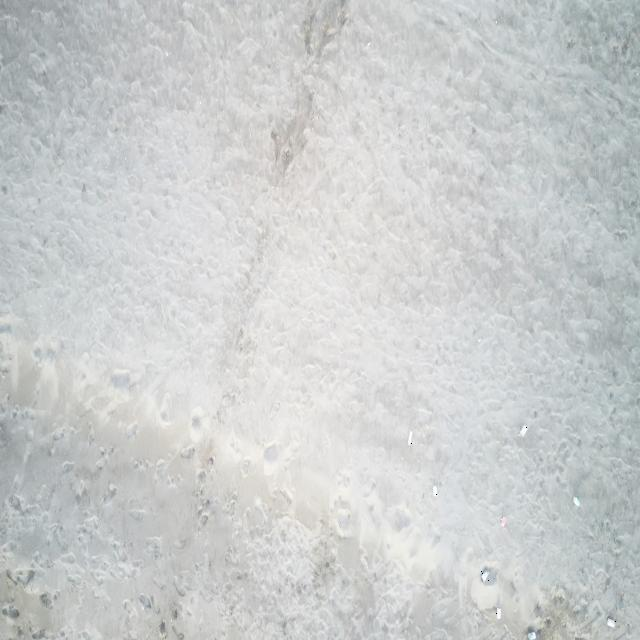tin-and-aluminum-cans: (519, 424, 528, 438), (606, 617, 616, 628), (481, 569, 489, 582), (432, 484, 438, 498), (494, 604, 500, 618), (527, 631, 536, 640), (500, 515, 506, 527), (573, 497, 580, 507), (408, 431, 412, 447)
